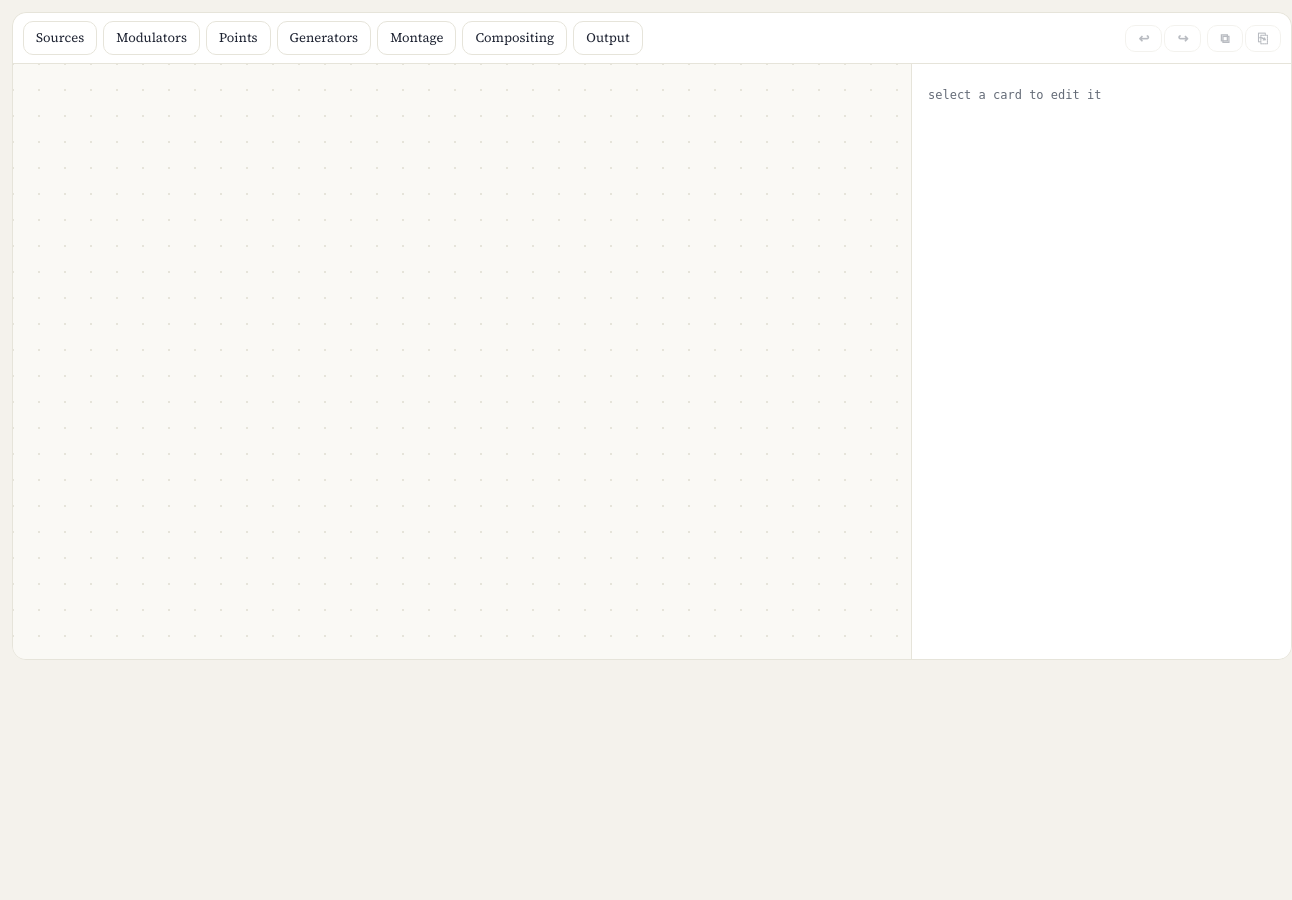
Test: undo/redo toolbar (jsdom) › an edit enables undo; clicking it restores the previous graph and enables redo
Click the button "Generators" at [324, 38], box [277,21,371,55]
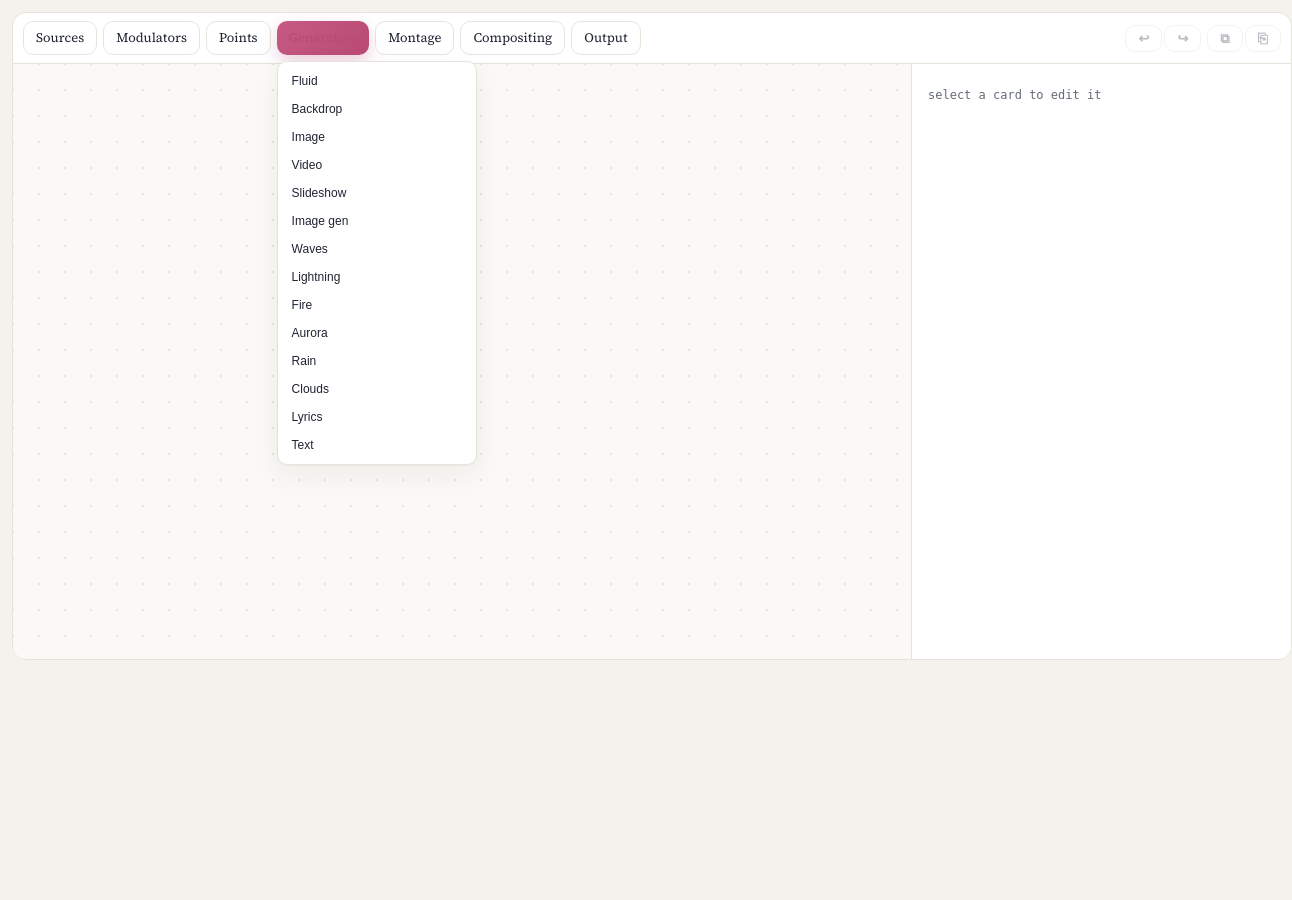
Click the menu item "Fluid" at [377, 81], box [284,68,470,94]
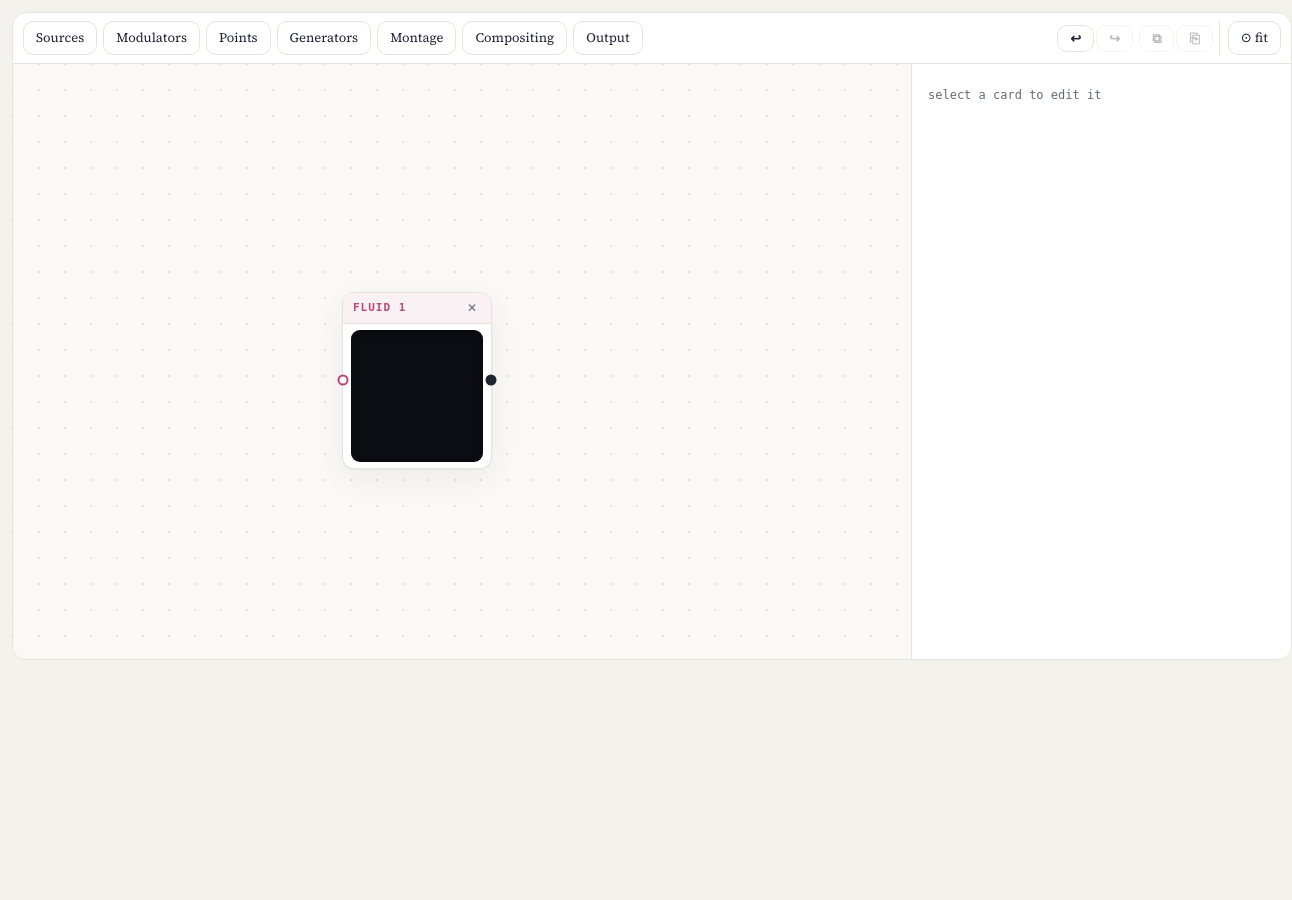
Check: the button named "Redo" is disabled, box [1096,25,1133,52]
Check: the button named "Undo" is enabled
Click the button named "Undo" at [1076, 38], box [1057,25,1094,52]
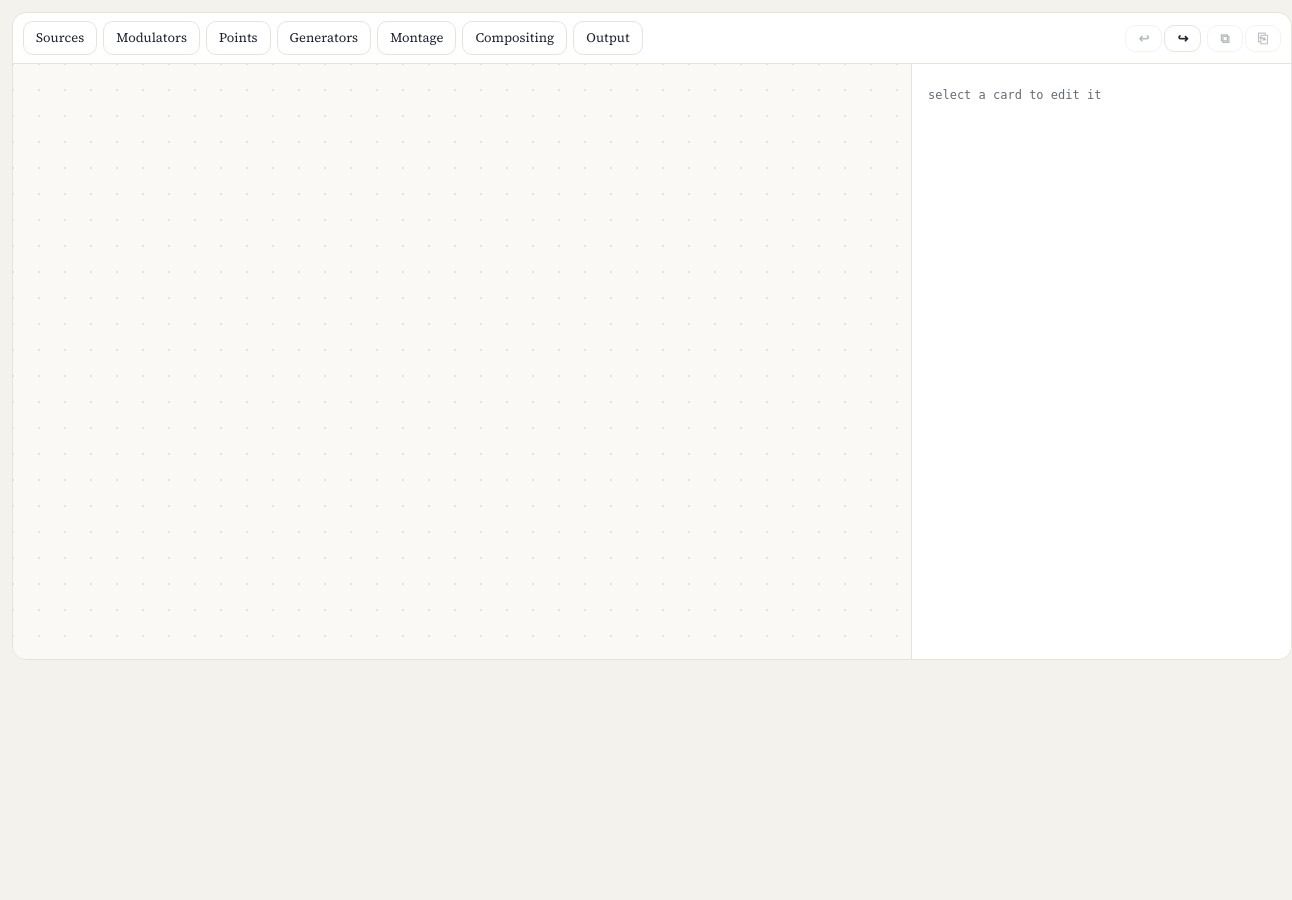
Check: the button named "Undo" is disabled, box [1126,25,1162,52]
Check: the button named "Redo" is enabled
Click the button named "Redo" at [1183, 38], box [1164,25,1201,52]
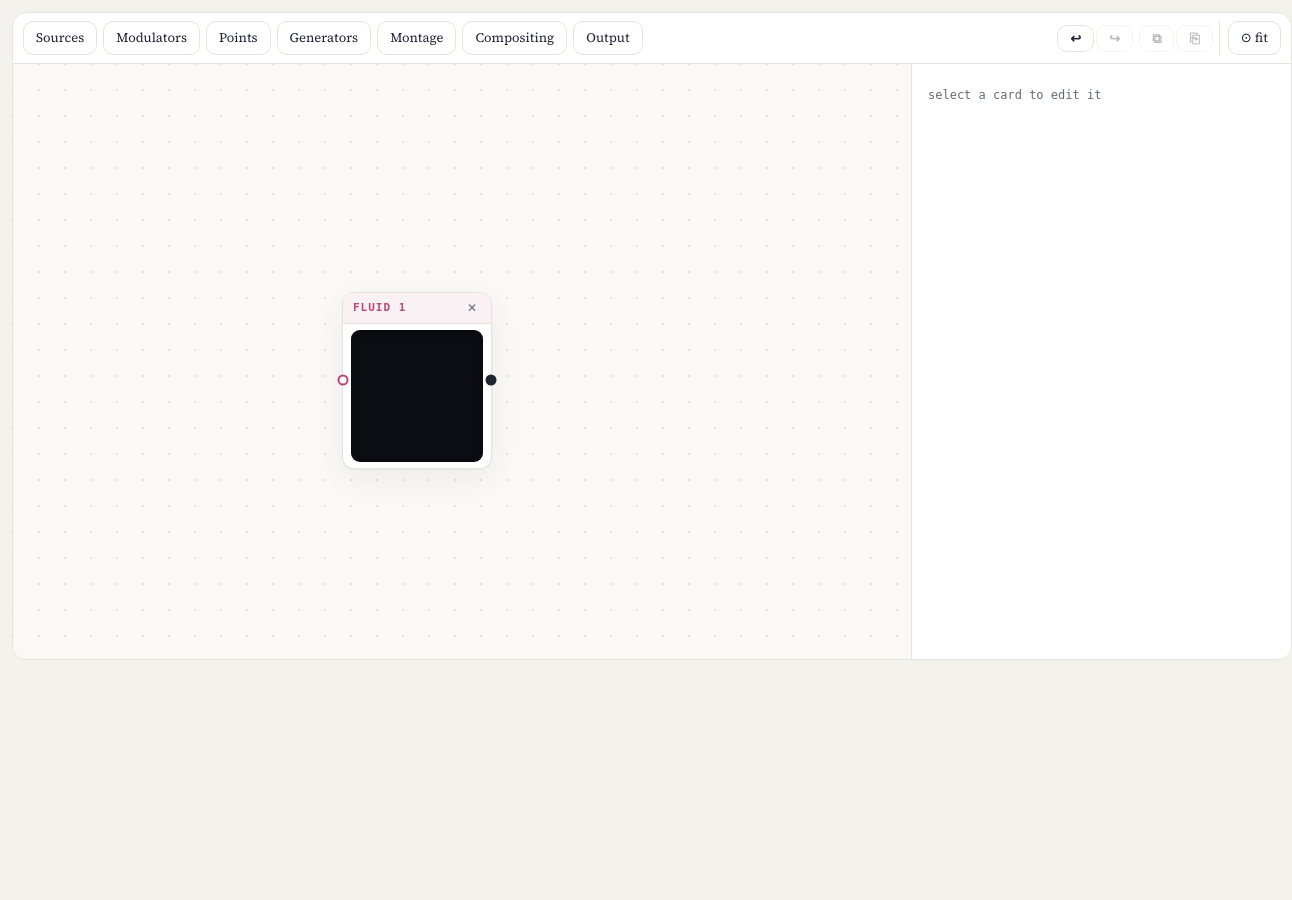
Check: the button named "Undo" is enabled, box [1057,25,1094,52]
